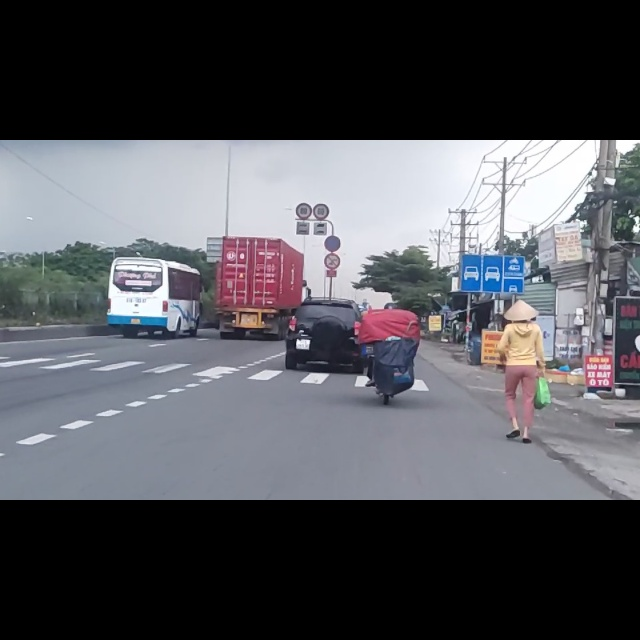bien_chi_dan: (461, 203, 525, 274), (323, 171, 341, 199), (296, 110, 312, 140), (313, 113, 329, 142), (325, 201, 340, 229)
